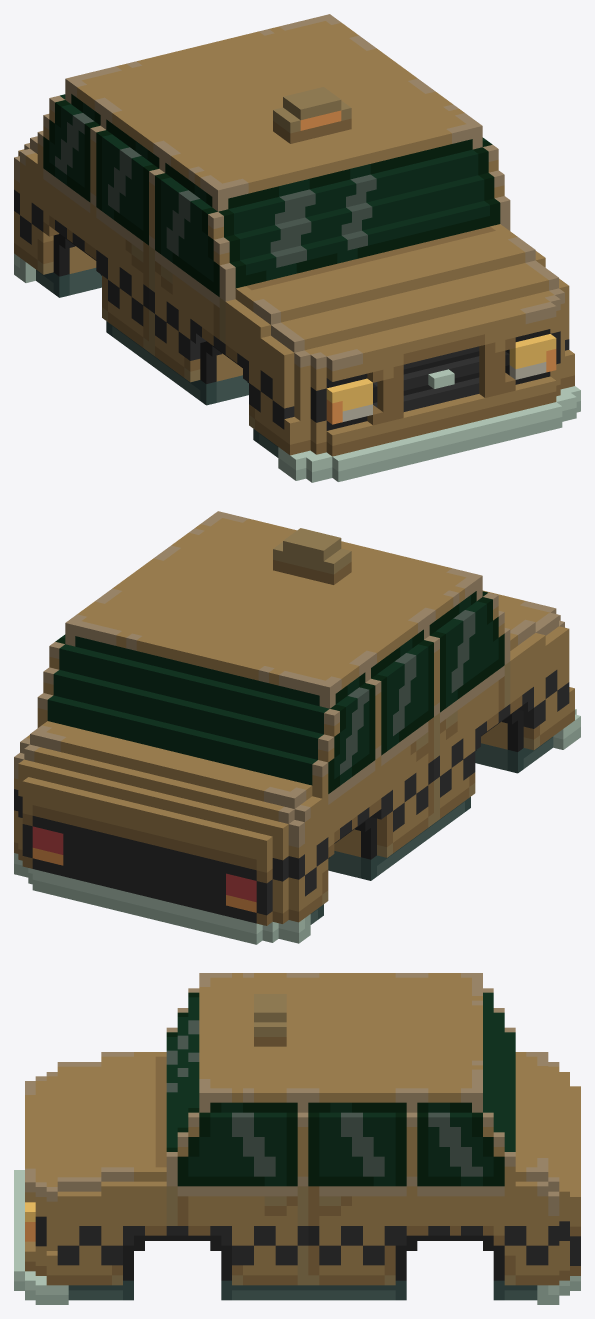
The model's file is taxi.obj.
3 views of the same model, one above another, from view 1: azimuth 30°, elevation 25°; view 2: azimuth 150°, elevation 25°; view 3: azimuth 270°, elevation 25° (orthographic). The views are drawn at different scales.
Visible parts, largest first — view 1: Taxi; view 2: Taxi; view 3: Taxi.
Boxes of the visible parts, bbox=[...] form: Taxi: bbox=[14, 14, 580, 482]; Taxi: bbox=[14, 511, 580, 944]; Taxi: bbox=[14, 973, 580, 1304].
Size of the model in its own units: 0.56 by 0.48 by 1.04.
1 material, 1 textured.
